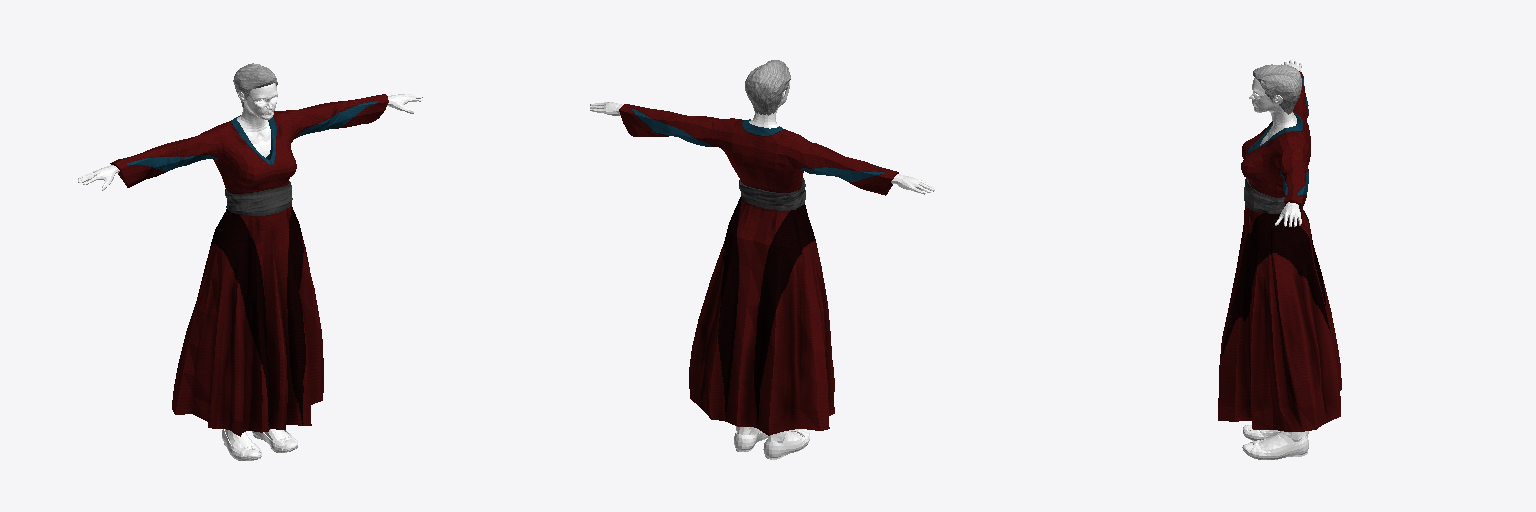
3 views of the same model, side by side, from view 1: azimuth 30°, elevation 25°; view 2: azimuth 150°, elevation 25°; view 3: azimuth 270°, elevation 25° (orthographic).
Visible parts, largest first — view 1: Tops, Body, Shoes, Hair; view 2: Tops, Hair, Body, Shoes; view 3: Tops, Body, Hair, Shoes.
Boxes of the visible parts, x1=… form: Tops: x1=110, y1=94, x2=388, y2=436; Body: x1=78, y1=83, x2=422, y2=448; Shoes: x1=222, y1=429, x2=297, y2=460; Hair: x1=233, y1=63, x2=277, y2=107; Tops: x1=619, y1=104, x2=898, y2=435; Hair: x1=745, y1=60, x2=790, y2=115; Body: x1=590, y1=81, x2=934, y2=442; Shoes: x1=734, y1=429, x2=809, y2=459; Tops: x1=1218, y1=71, x2=1341, y2=431; Body: x1=1249, y1=60, x2=1305, y2=449; Hair: x1=1253, y1=64, x2=1301, y2=114; Shoes: x1=1242, y1=425, x2=1308, y2=459.
Bounding box in the file's own units: 167 × 177 × 52.26.
4 materials, 2 textured.